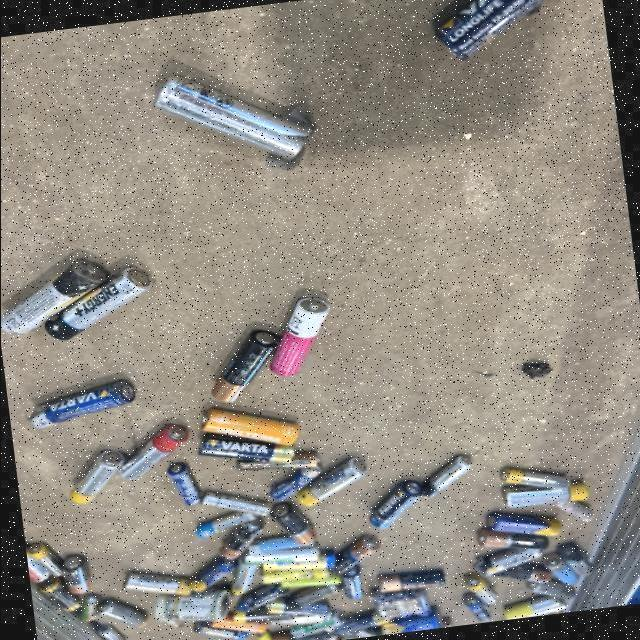AA: (149, 68, 314, 162), (41, 262, 154, 344), (1, 254, 112, 337), (263, 292, 333, 380), (26, 377, 138, 432), (206, 328, 280, 406), (116, 421, 190, 488), (195, 407, 303, 448)
